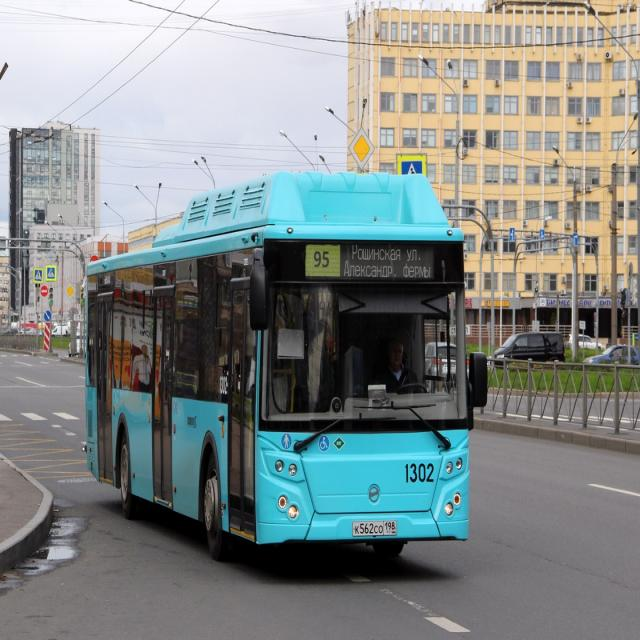number-of-bus: (310, 247, 338, 275)
